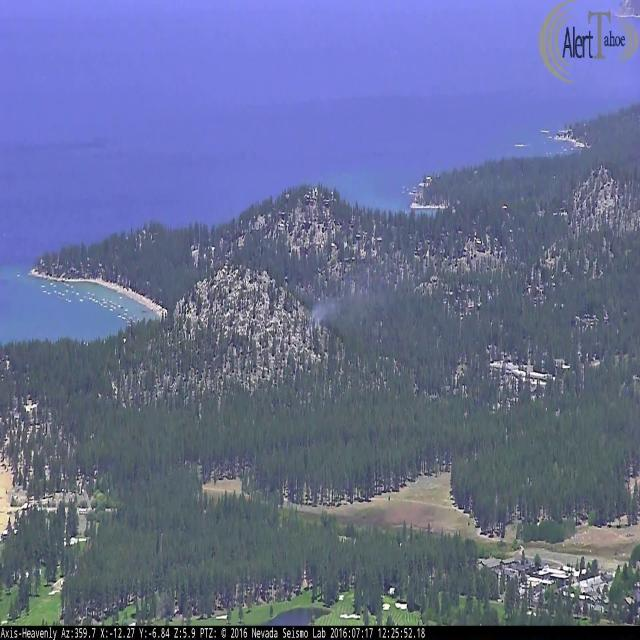smoke: (310, 271, 402, 330)
